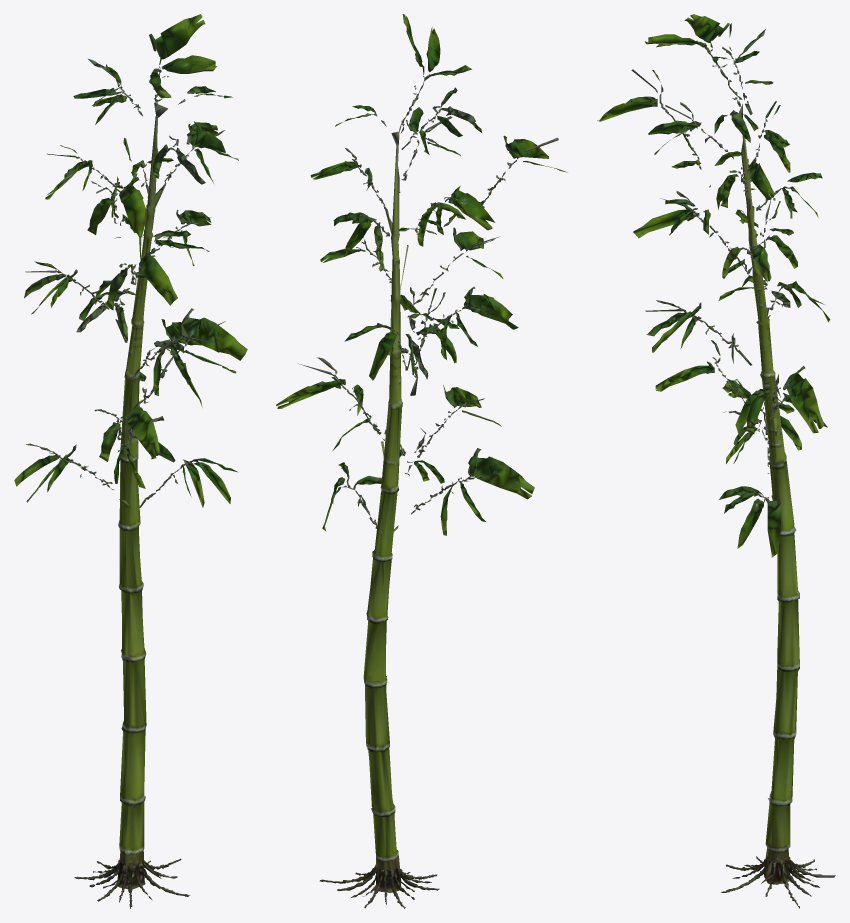
The model's file is Zhu.glb.
3 views of the same model, side by side, from view 1: azimuth 30°, elevation 25°; view 2: azimuth 150°, elevation 25°; view 3: azimuth 270°, elevation 25° (orthographic). The views are drawn at different scales.
Visible parts, largest first — view 1: tripo_node_f1452067-2d1b-480e-a0b3-f9129bba4bb5; view 2: tripo_node_f1452067-2d1b-480e-a0b3-f9129bba4bb5; view 3: tripo_node_f1452067-2d1b-480e-a0b3-f9129bba4bb5.
Part boxes in pixels (x1,y1,x2,y2): tripo_node_f1452067-2d1b-480e-a0b3-f9129bba4bb5: [14, 14, 247, 908]; tripo_node_f1452067-2d1b-480e-a0b3-f9129bba4bb5: [276, 14, 567, 908]; tripo_node_f1452067-2d1b-480e-a0b3-f9129bba4bb5: [597, 14, 835, 908].
Size of the model in its own units: 0.2637 by 0.998 by 0.2461.
Materials: 1 (1 with a texture image).
